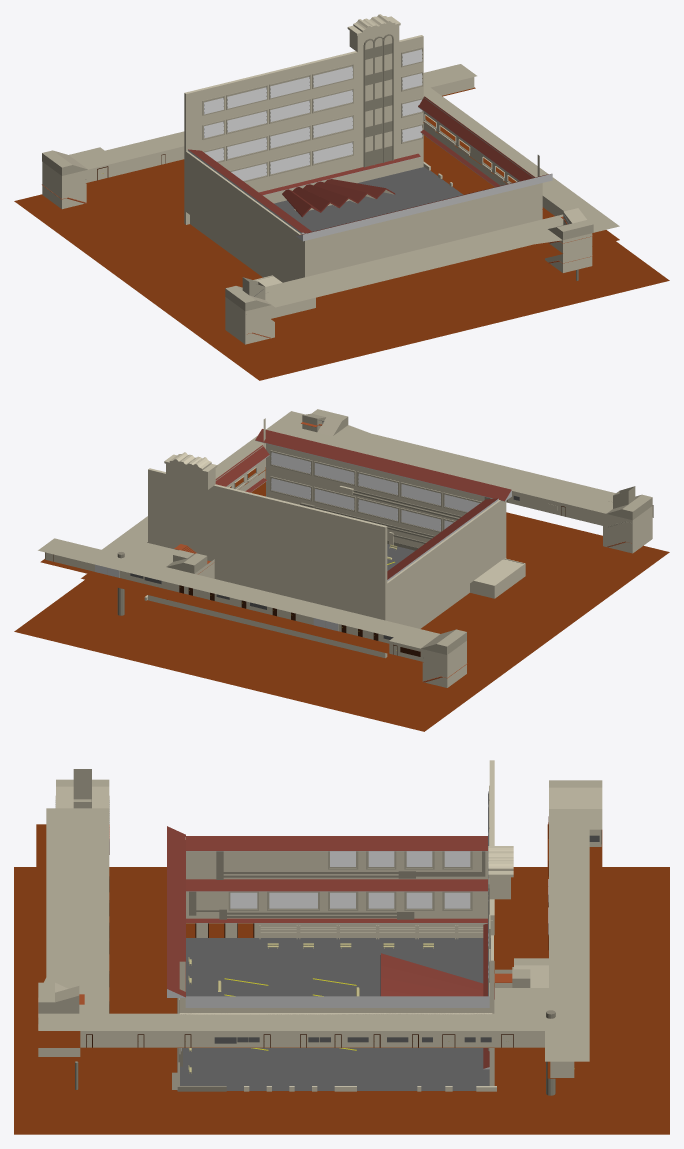
File: 3rd flr.fbx
3 views of the same model, one above another, from view 1: azimuth 30°, elevation 25°; view 2: azimuth 150°, elevation 25°; view 3: azimuth 270°, elevation 25° (orthographic). The views are drawn at different scales.
Parts seen in each view (by area): view 1: 3rd flr; view 2: 3rd flr; view 3: 3rd flr.
Part boxes in pixels (x1,y1,x2,y2): 3rd flr: (14,14,669,380); 3rd flr: (14,409,669,731); 3rd flr: (14,760,669,1134).
Bounding box in the file's own units: 16743 × 5983 × 17083.
